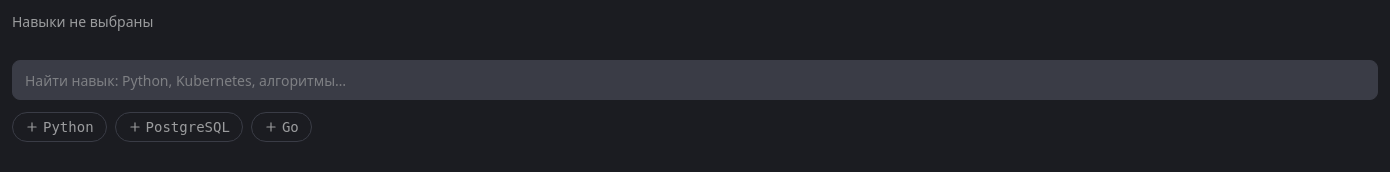
SkillPicker › respects the maximum
The image size is (1390, 172).
Click the button "Go". click: (281, 127)
box: left=251, top=112, right=312, bottom=142
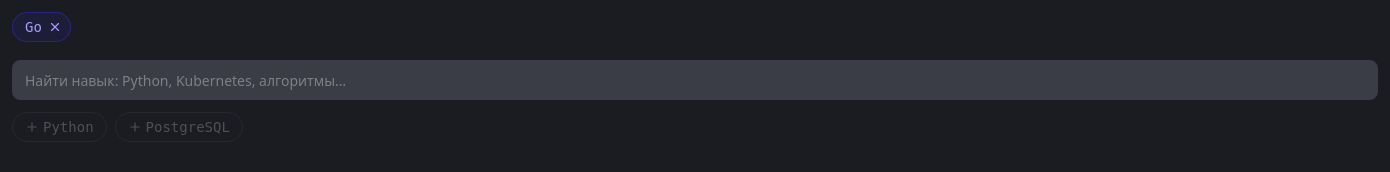
Now the button "Python" is disabled, box left=12, top=112, right=107, bottom=142
